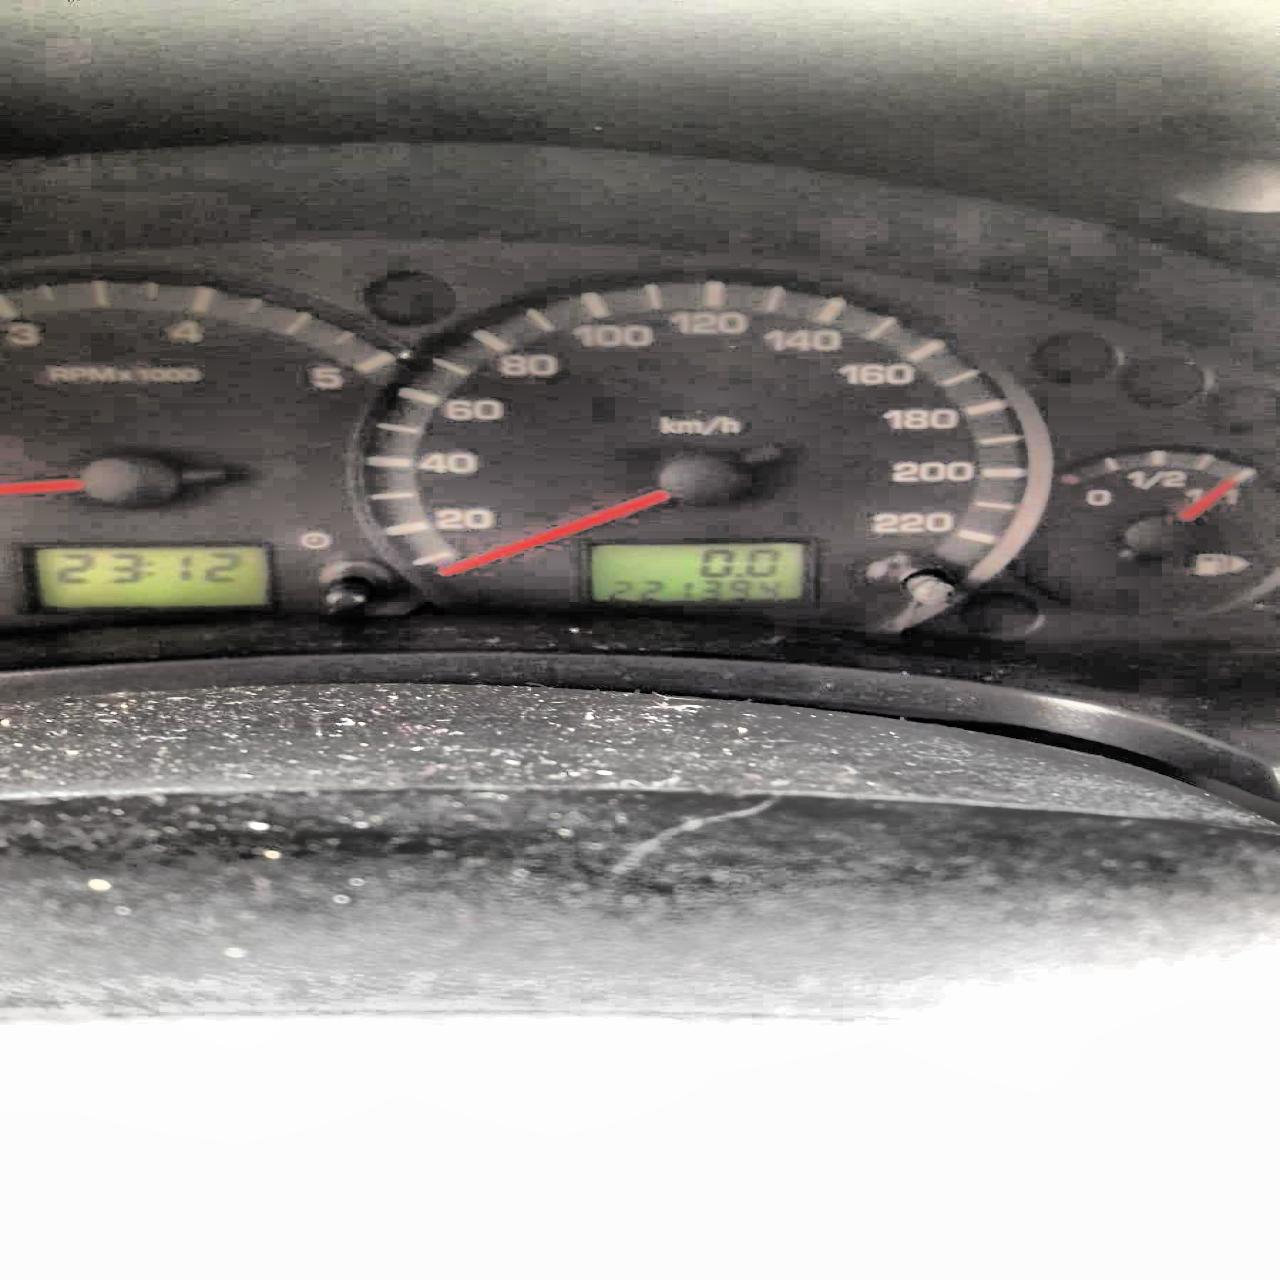-: (731, 572, 743, 577)
0: (744, 547, 778, 576), (699, 549, 730, 577)
1: (679, 581, 695, 601)
2: (639, 579, 662, 600), (608, 580, 632, 600)
3: (701, 579, 721, 599)
4: (758, 581, 781, 599)
9: (726, 579, 750, 600)
odometer: (585, 542, 812, 605)
